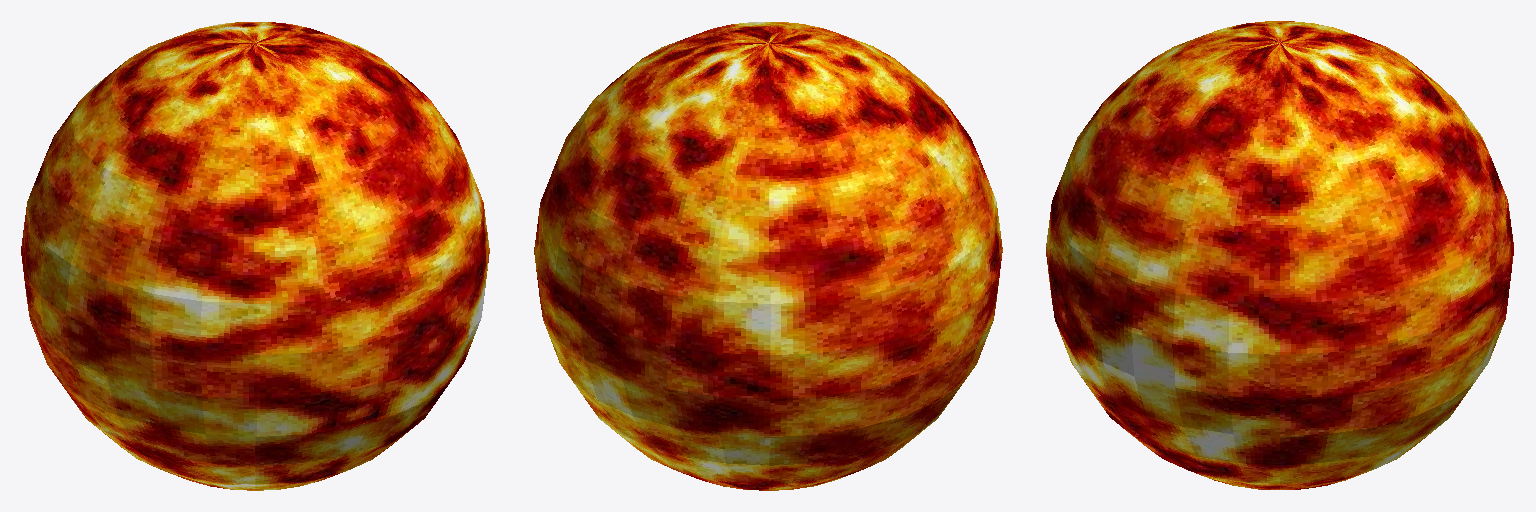
3 views of the same model, side by side, from view 1: azimuth 30°, elevation 25°; view 2: azimuth 150°, elevation 25°; view 3: azimuth 270°, elevation 25° (orthographic).
Visible parts, largest first — view 1: Default object_1; view 2: Default object_1; view 3: Default object_1.
Boxes of the visible parts, <box> form: Default object_1: <box>21,22,489,490</box>; Default object_1: <box>534,22,1002,490</box>; Default object_1: <box>1046,21,1513,489</box>.
Size of the model in its own units: 21.94 by 22 by 21.96.
Materials: 1 (1 with a texture image).